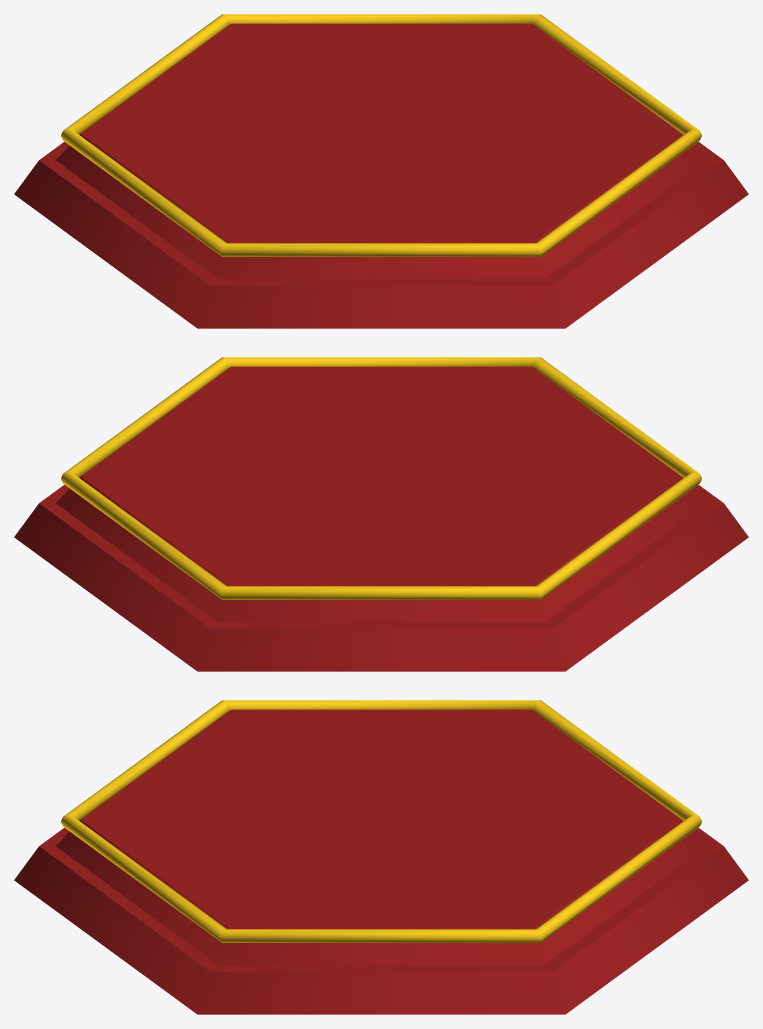
The model's file is stone_wood.glb.
3 renders of one model, top to bottom at view 1: azimuth 30°, elevation 25°; view 2: azimuth 150°, elevation 25°; view 3: azimuth 270°, elevation 25°, orthographic.
Parts seen in each view (by area): view 1: plinth_top, plinth_base, plinth_trim_ring; view 2: plinth_top, plinth_base, plinth_trim_ring; view 3: plinth_top, plinth_base, plinth_trim_ring.
Boxes of the visible parts, left/top/right/bottom form: plinth_top: left=56, top=23, right=706, bottom=279; plinth_base: left=14, top=141, right=748, bottom=328; plinth_trim_ring: left=61, top=14, right=701, bottom=256; plinth_top: left=56, top=366, right=706, bottom=622; plinth_base: left=14, top=484, right=748, bottom=671; plinth_trim_ring: left=61, top=357, right=701, bottom=599; plinth_top: left=56, top=709, right=706, bottom=965; plinth_base: left=14, top=827, right=748, bottom=1014; plinth_trim_ring: left=61, top=700, right=701, bottom=942.
Size of the model in its own units: 1.52 by 0.173 by 1.76.
